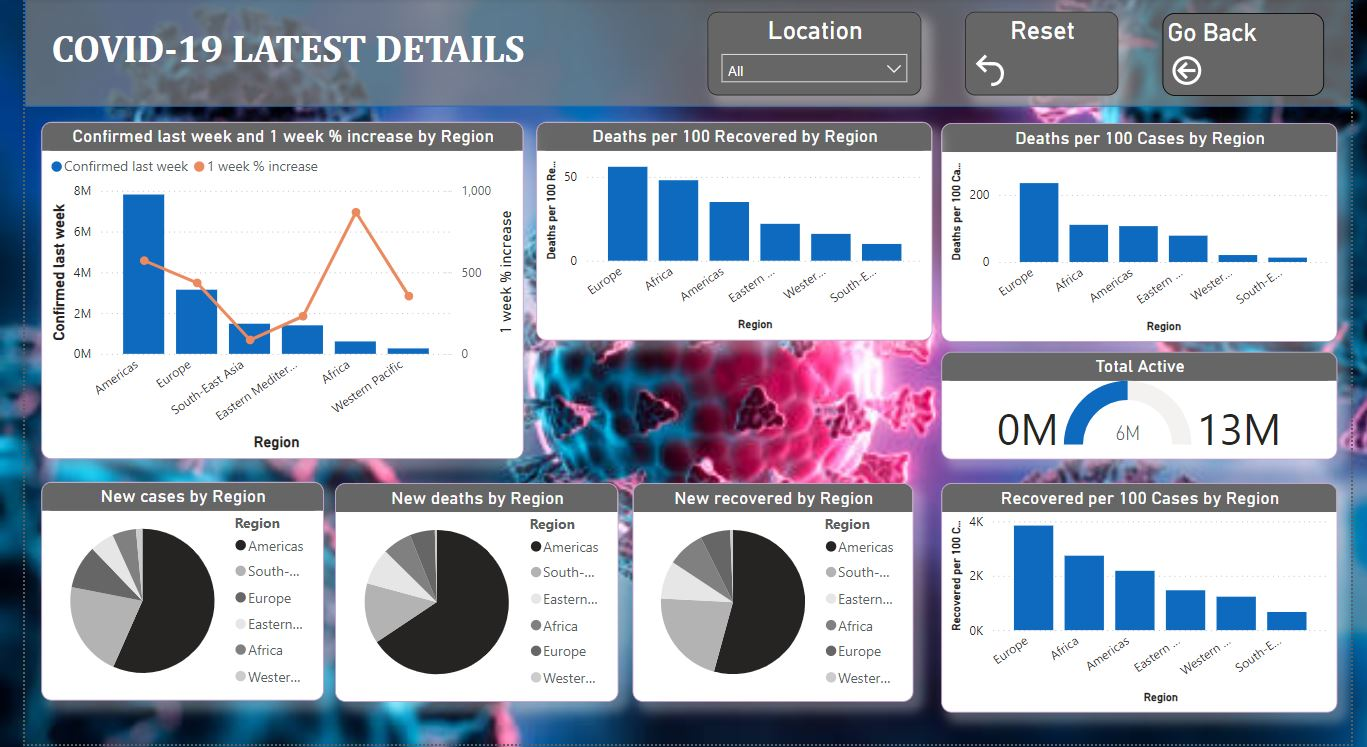

The dashboard page shown, as its layout file describes it:
{"tool":"powerbi","page":{"name":"Details","canvas":[1280,720],"ordinal":1},"visuals":[{"type":"columnChart","fields":{"Category":["country_wise_latest.WHO Region"],"Y":["Sum(country_wise_latest.Deaths / 100 Cases)"]},"box":[884.3,120.6,382.4,211.1],"z":1000},{"type":"columnChart","fields":{"Category":["country_wise_latest.WHO Region"],"Y":["Sum(country_wise_latest.Recovered / 100 Cases)"]},"box":[884.3,468.1,382.4,222],"z":2000},{"type":"columnChart","fields":{"Category":["country_wise_latest.WHO Region"],"Y":["CountNonNull(country_wise_latest.Deaths / 100 Recovered)"]},"box":[493.4,119.4,382.4,211.1],"z":3000},{"type":"lineStackedColumnComboChart","fields":{"Category":["country_wise_latest.WHO Region"],"Y":["Sum(country_wise_latest.Confirmed last week)"],"Y2":["Sum(country_wise_latest.1 week % increase)"]},"box":[15.7,119.4,465.7,325.7],"z":4000},{"type":"pieChart","fields":{"Category":["country_wise_latest.WHO Region"],"Y":["Sum(country_wise_latest.New cases)"]},"box":[15.7,466.9,272.7,211.1],"z":4001},{"type":"pieChart","title":"New deaths by Region","fields":{"Category":["country_wise_latest.WHO Region"],"Y":["Sum(country_wise_latest.New deaths)"]},"box":[299.2,468.1,273.9,211.1],"z":4002},{"type":"pieChart","title":"New recovered by Region","fields":{"Category":["country_wise_latest.WHO Region"],"Y":["Sum(country_wise_latest.New recovered)"]},"box":[586.3,468.1,271.4,211.1],"z":4003},{"type":"shape","box":[0,0,1280,105],"z":4004},{"type":"textbox","box":[20.5,21.7,545.3,67.6],"z":4005},{"type":"slicer","title":"Location","fields":{"Values":["country_wise_latest.Country/Region"]},"box":[658.7,13.3,206.3,80.8],"z":4006},{"type":"actionButton","title":"Go Back","box":[1097.9,14.5,155.6,79.6],"z":4007},{"type":"actionButton","title":"Reset","box":[907.2,13.3,148.4,80.8],"z":4008},{"type":"gauge","fields":{"Y":["Sum(country_wise_latest.Active)"]},"box":[884.3,341.4,382.4,103.8],"z":4009}]}

Visuals, with their boxes in screenshot pixels (x1, y1, x2, y2), scaled from the page's 1280x720 canvas onto the 1367x747 screenshot:
columnChart - country_wise_latest.WHO Region x Sum(country_wise_latest.Deaths / 100 Cases): detection(944, 125, 1353, 344)
columnChart - country_wise_latest.WHO Region x Sum(country_wise_latest.Recovered / 100 Cases): detection(944, 486, 1353, 716)
columnChart - country_wise_latest.WHO Region x CountNonNull(country_wise_latest.Deaths / 100 Recovered): detection(527, 124, 935, 343)
lineStackedColumnComboChart - country_wise_latest.WHO Region x Sum(country_wise_latest.Confirmed last week): detection(17, 124, 514, 462)
pieChart - country_wise_latest.WHO Region x Sum(country_wise_latest.New cases): detection(17, 484, 308, 703)
"New deaths by Region" pieChart: detection(320, 486, 612, 705)
"New recovered by Region" pieChart: detection(626, 486, 916, 705)
shape: detection(0, 0, 1366, 109)
textbox: detection(22, 23, 604, 93)
"Location" slicer: detection(703, 14, 924, 98)
"Go Back" actionButton: detection(1173, 15, 1339, 98)
"Reset" actionButton: detection(969, 14, 1127, 98)
gauge - Sum(country_wise_latest.Active): detection(944, 354, 1353, 462)
